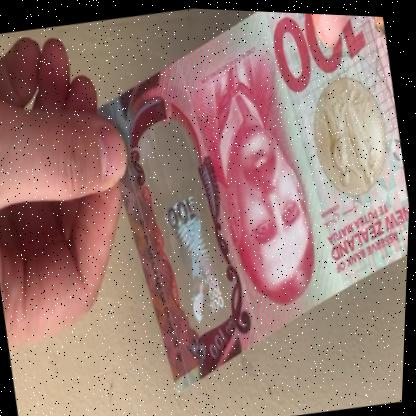100F: (131, 109, 236, 330)
